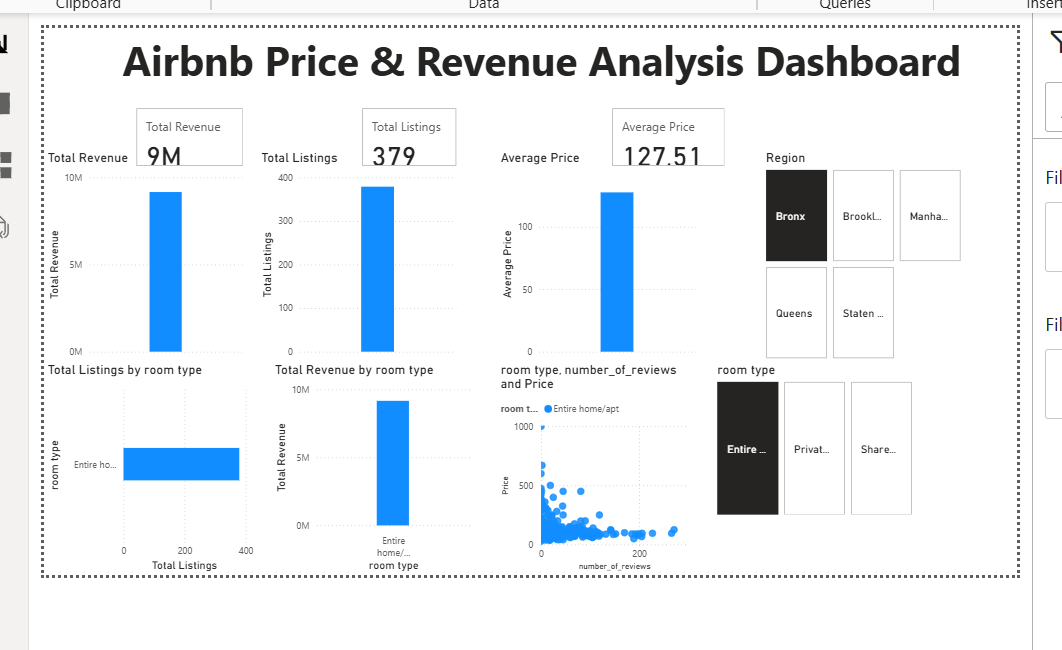

What the dashboard file says about the page in this screenshot:
{"tool":"powerbi","page":{"name":"Page 1","canvas":[1280,720],"ordinal":0},"visuals":[{"type":"clusteredColumnChart","fields":{"Y":["AB_NYC_2019.Total Revenue"]},"box":[0,159.6,266.6,280.2],"z":0},{"type":"clusteredColumnChart","fields":{"Y":["AB_NYC_2019.Total Listings"]},"box":[280.2,159.6,266.6,280.2],"z":1000},{"type":"clusteredColumnChart","fields":{"Y":["AB_NYC_2019.Average Price"]},"box":[595.5,159.6,266.6,280.2],"z":2000},{"type":"clusteredBarChart","fields":{"Category":["AB_NYC_2019.room type"],"Y":["AB_NYC_2019.Total Listings"]},"box":[0,439.8,280.2,280.2],"z":3000},{"type":"clusteredColumnChart","fields":{"Y":["AB_NYC_2019.Total Revenue"],"Category":["AB_NYC_2019.room type"]},"box":[299.7,439.8,266.6,280.2],"z":4000},{"type":"scatterChart","fields":{"X":["AB_NYC_2019.number_of_reviews"],"Y":["AB_NYC_2019.Price"],"Series":["AB_NYC_2019.room type"]},"box":[595.5,439.8,266.6,280.2],"z":5000},{"type":"advancedSlicerVisual","fields":{"Values":["AB_NYC_2019.Region"]},"box":[945.8,159.6,266.6,280.2],"z":6000},{"type":"advancedSlicerVisual","fields":{"Values":["AB_NYC_2019.room type"]},"box":[881.6,439.8,266.6,206.3],"z":7000},{"type":"textbox","box":[99.3,0,1181.3,101.2],"z":8000},{"type":"cardVisual","fields":{"Data":["AB_NYC_2019.Total Revenue"]},"box":[0,50.2,140.5,114.4],"z":8001},{"type":"cardVisual","fields":{"Data":["AB_NYC_2019.Average Price"]},"box":[728.6,80.3,180.6,102.4],"z":8002},{"type":"cardVisual","fields":{"Data":["AB_NYC_2019.Total Listings"]},"box":[423.5,66.2,142.5,116.4],"z":8003}]}

Visuals, with their boxes on the page's 1280x720 design canvas (x1, y1, x2, y2). These are canvas units, not pixel positions in the 1062x650 screenshot, which may show the page scaled, cropped or inside an application window:
clusteredColumnChart - AB_NYC_2019.Total Revenue: [0, 160, 267, 440]
clusteredColumnChart - AB_NYC_2019.Total Listings: [280, 160, 547, 440]
clusteredColumnChart - AB_NYC_2019.Average Price: [596, 160, 862, 440]
clusteredBarChart - AB_NYC_2019.room type x AB_NYC_2019.Total Listings: [0, 440, 280, 720]
clusteredColumnChart - AB_NYC_2019.Total Revenue x AB_NYC_2019.room type: [300, 440, 566, 720]
scatterChart - AB_NYC_2019.number_of_reviews x AB_NYC_2019.Price: [596, 440, 862, 720]
advancedSlicerVisual - AB_NYC_2019.Region: [946, 160, 1212, 440]
advancedSlicerVisual - AB_NYC_2019.room type: [882, 440, 1148, 646]
textbox: [99, 0, 1281, 101]
cardVisual - AB_NYC_2019.Total Revenue: [0, 50, 140, 165]
cardVisual - AB_NYC_2019.Average Price: [729, 80, 909, 183]
cardVisual - AB_NYC_2019.Total Listings: [424, 66, 566, 183]
